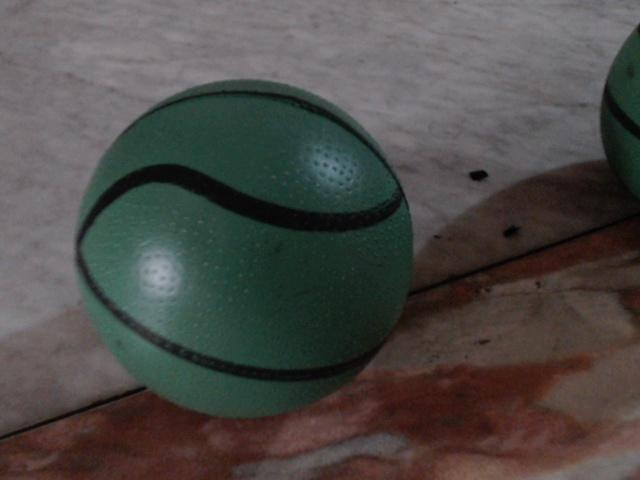Sports-Ball: (73, 70, 420, 420)
